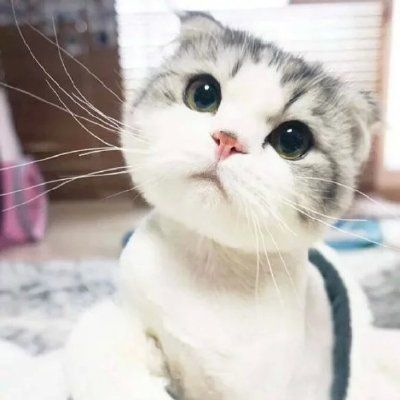cat: (121, 16, 384, 269)
